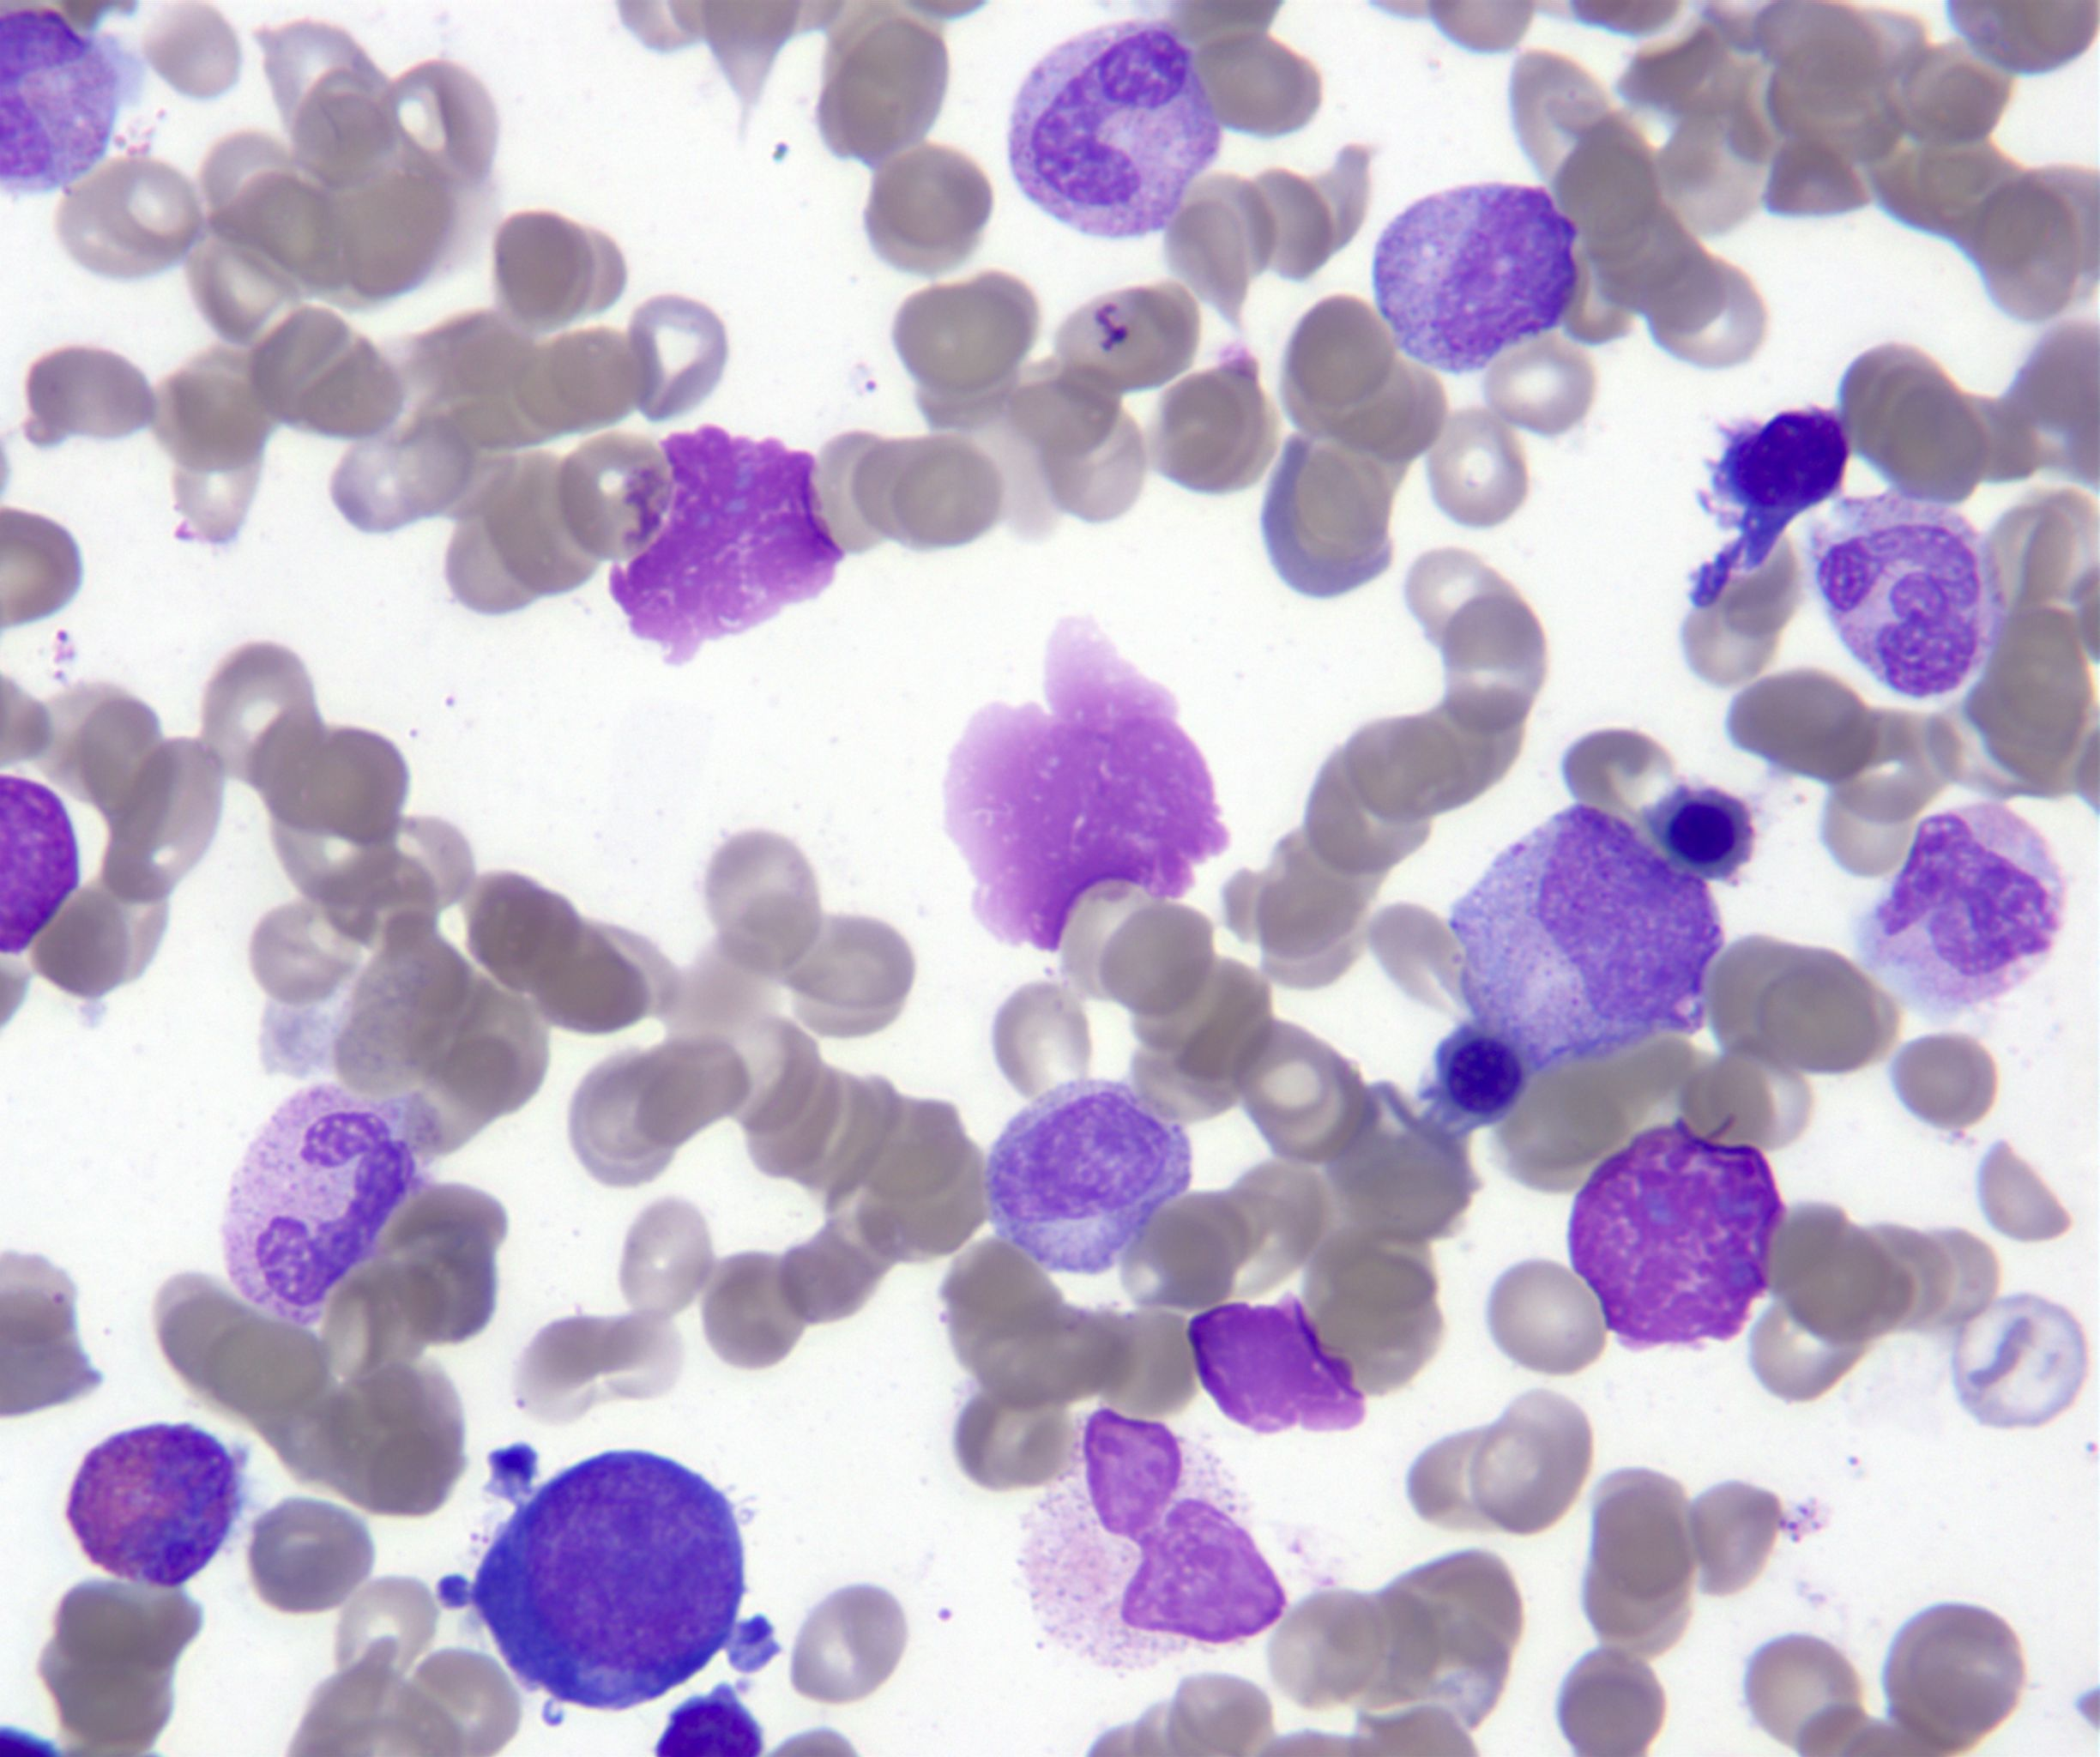21: (476, 1452, 745, 1710)
24: (1638, 785, 1756, 886), (1423, 1026, 1526, 1131)
3: (1455, 810, 1723, 1064), (989, 1080, 1195, 1274), (1374, 185, 1575, 368)
5: (1010, 19, 1224, 237)
6: (223, 1084, 431, 1323), (1852, 808, 2065, 1015), (1807, 492, 2002, 698)
E4: (68, 1425, 237, 1584)
x: (944, 614, 1231, 946), (1022, 1412, 1284, 1675), (609, 429, 841, 665), (1570, 1118, 1784, 1352), (1690, 403, 1845, 604), (1190, 1307, 1366, 1432), (2, 12, 119, 194), (0, 776, 82, 953)
